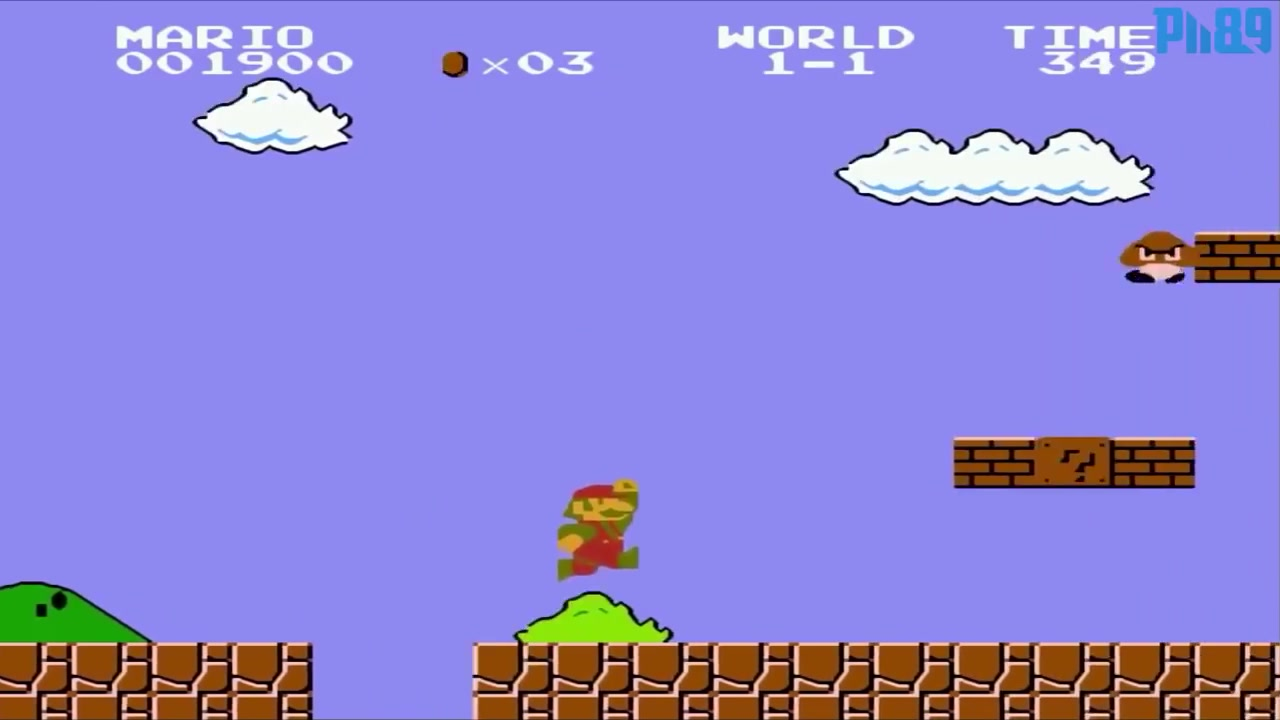mario: (547, 474, 650, 578)
